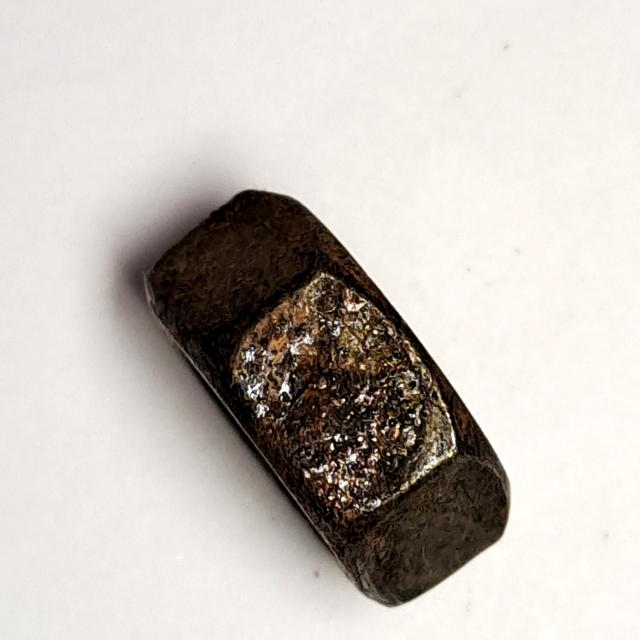Side_Rust: (122, 171, 526, 621)
